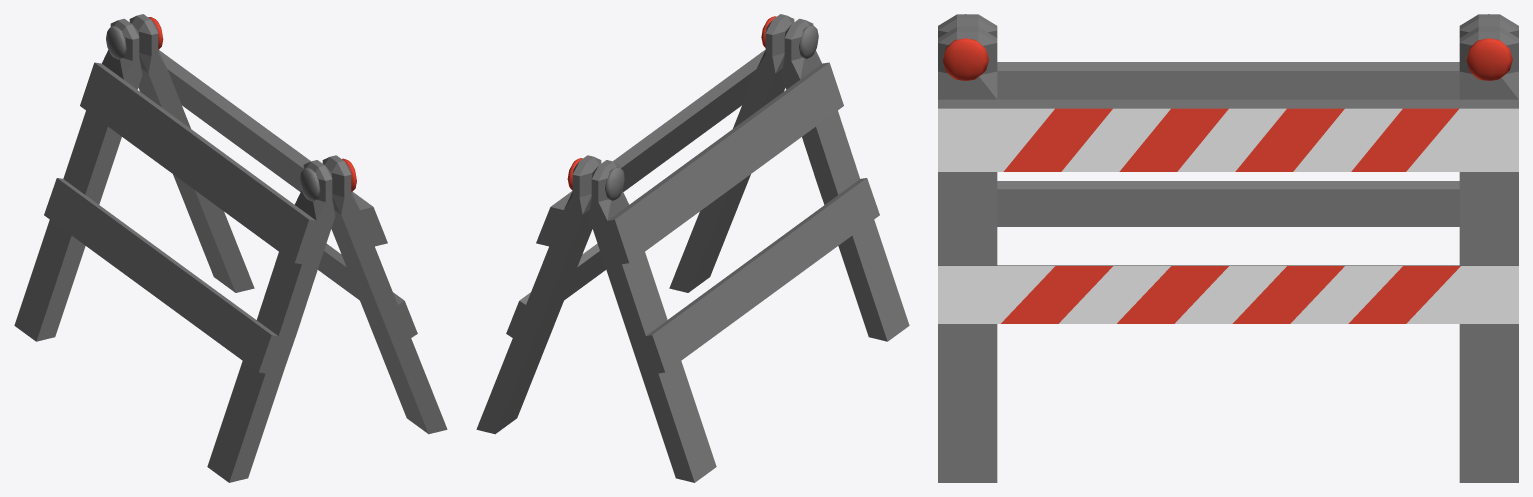
Rendered from engel.fbx.
3 renders of one model, left to right at view 1: azimuth 30°, elevation 25°; view 2: azimuth 150°, elevation 25°; view 3: azimuth 270°, elevation 25°, orthographic. The views are drawn at different scales.
Parts seen in each view (by area): view 1: Engel; view 2: Engel; view 3: Engel.
Part boxes in pixels (x1,y1,x2,y2): Engel: (14, 14, 447, 482); Engel: (476, 14, 909, 482); Engel: (938, 14, 1518, 482).
Size of the model in its own units: 161 by 202 by 274.
